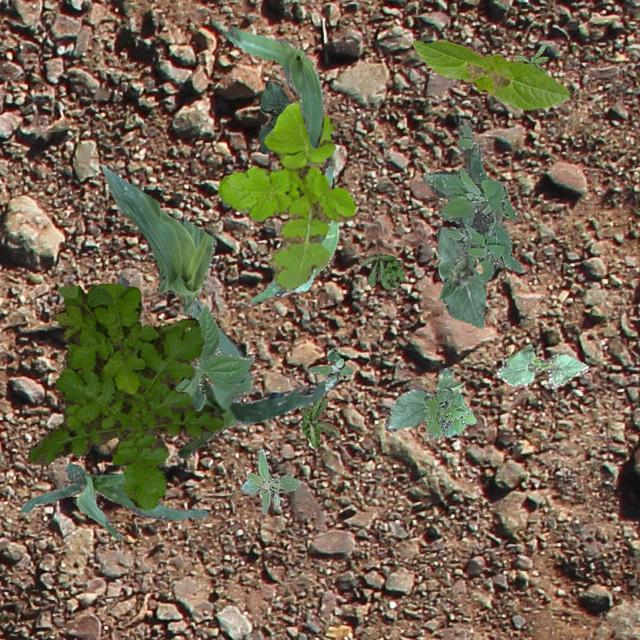crop: (116, 276, 328, 458), (100, 163, 214, 314), (18, 462, 206, 540), (224, 24, 324, 148), (250, 164, 338, 304), (412, 38, 568, 108), (174, 304, 252, 410), (383, 366, 462, 430), (436, 226, 484, 326), (496, 343, 588, 388), (258, 80, 290, 152)
weed: (26, 282, 222, 508), (216, 100, 354, 290), (420, 120, 520, 282), (240, 448, 302, 514), (422, 386, 474, 436), (308, 348, 352, 389), (300, 396, 336, 446), (358, 252, 403, 290), (514, 44, 546, 72)
